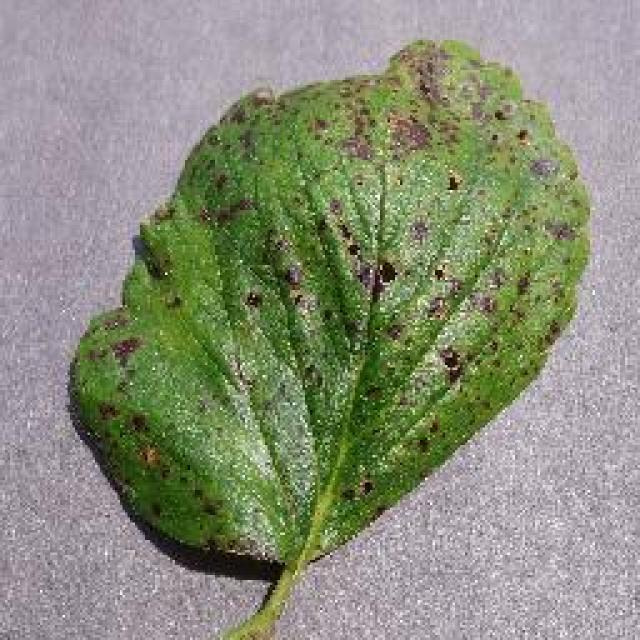Strawberry leaf scorch: (228, 105, 535, 388)
